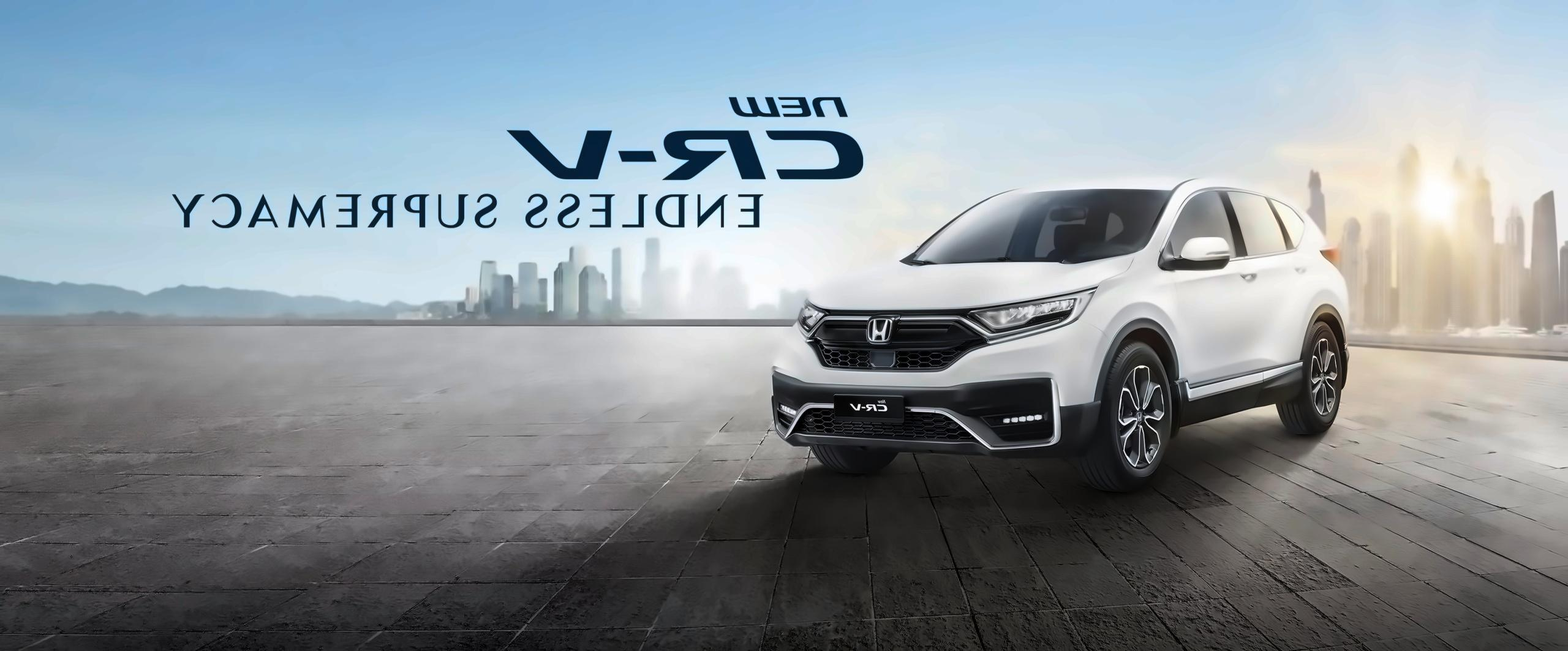Car hood: (801, 261, 1132, 319)
Fender - -F-L-: (1079, 241, 1188, 420)
Fender - -R-L-: (1303, 249, 1347, 341)
Front bumper: (762, 341, 1114, 463)
Headlight - -L-: (959, 283, 1106, 350)
Headlight - -R-: (784, 290, 833, 343)
Passenger-s door - -F-L-: (1168, 177, 1265, 404)
Passenger-s door - -R-L-: (1228, 181, 1319, 391)
Rear bumper: (1328, 300, 1365, 392)
Rear light - -L-: (1316, 240, 1351, 273)
Side bumper - -L-: (1165, 354, 1312, 443)
Side mirror - -L-: (1165, 230, 1240, 275)
